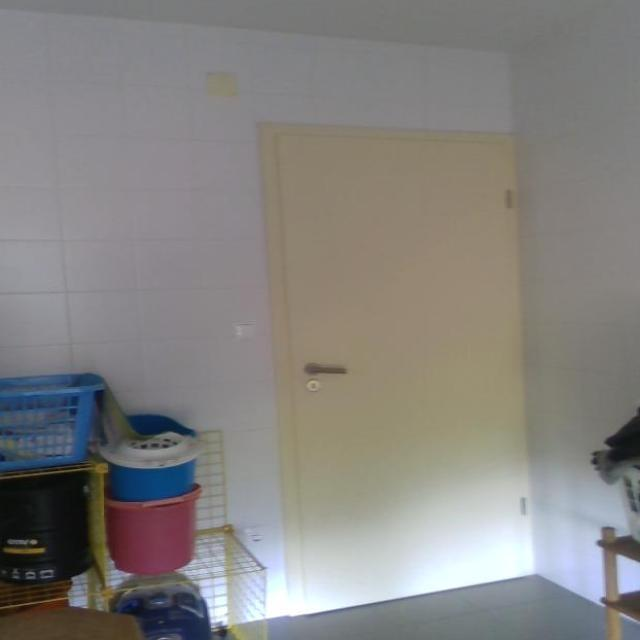door: (260, 120, 535, 615)
